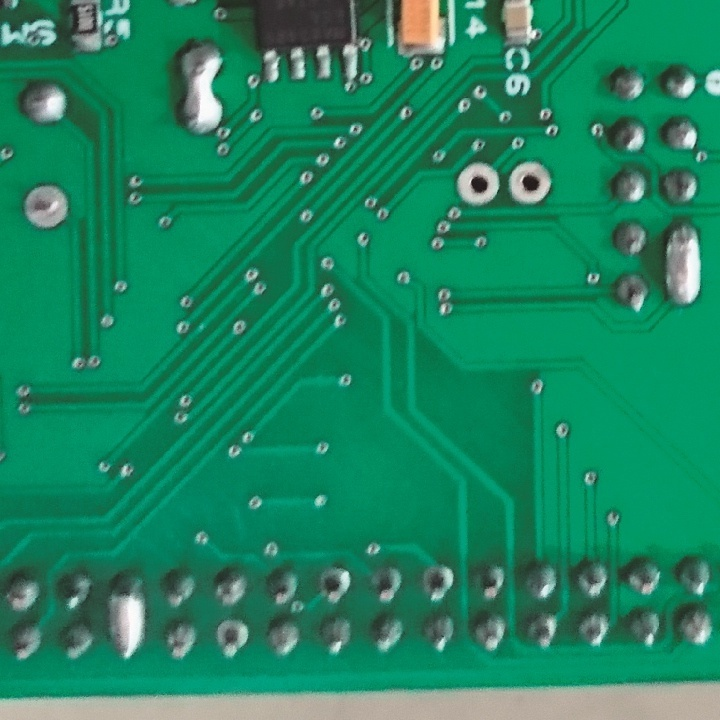F: (21, 180, 72, 232), (503, 160, 556, 207), (455, 161, 501, 206), (213, 617, 253, 658), (422, 562, 456, 604), (321, 567, 353, 606)
P: (176, 40, 224, 137), (105, 567, 148, 663), (661, 218, 705, 310)
